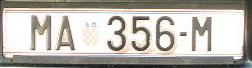-: (179, 32, 188, 36)
3: (107, 15, 126, 52)
5: (130, 15, 152, 52)
6: (155, 16, 175, 52)
A: (55, 16, 75, 51)
M: (31, 13, 52, 51), (190, 17, 212, 51)
